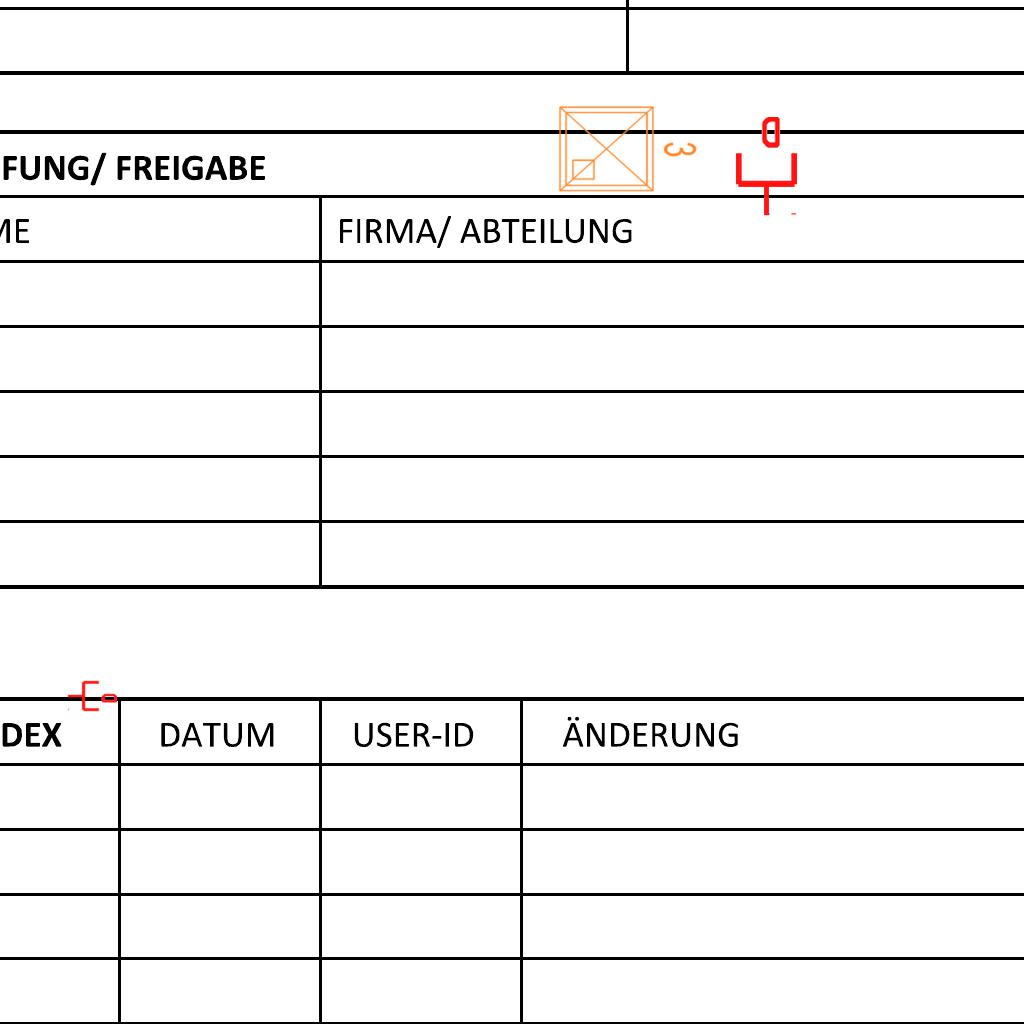Datenanschluss_einfach: (732, 117, 801, 217), (67, 679, 117, 713)
Einbaudownlights_LED_Konferenzraeume: (552, 95, 702, 199)
